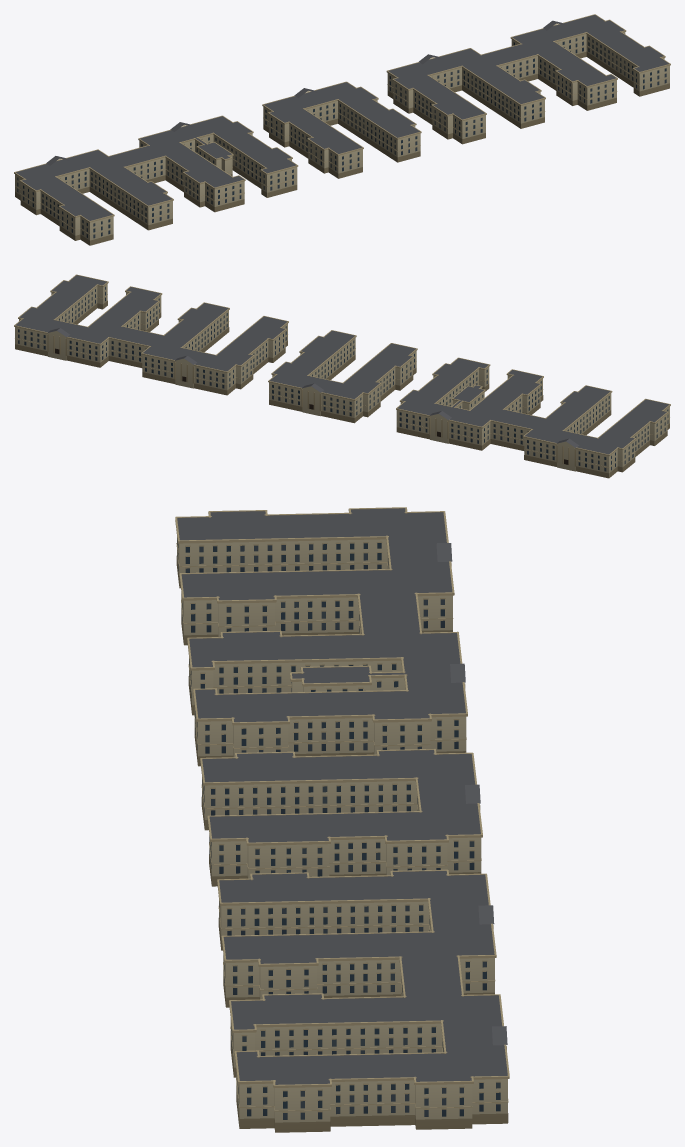
The model's file is shops_s.glb.
3 renders of one model, top to bottom at view 1: azimuth 30°, elevation 25°; view 2: azimuth 150°, elevation 25°; view 3: azimuth 270°, elevation 25°, orthographic. The views are drawn at different scales.
Visible parts, largest first — view 1: shops_s_lod0; view 2: shops_s_lod0; view 3: shops_s_lod0.
Boxes of the visible parts, x1=… form: shops_s_lod0: x1=14, y1=14, x2=670, y2=245; shops_s_lod0: x1=14, y1=274, x2=670, y2=478; shops_s_lod0: x1=175, y1=507, x2=509, y2=1132.
Size of what is drawn, in the model's own units: 465 by 21.35 by 114.
